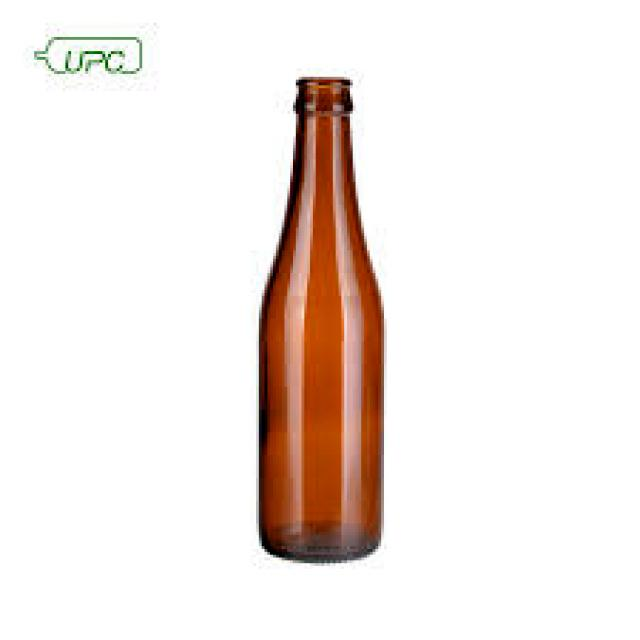Glass: (256, 73, 387, 566)
